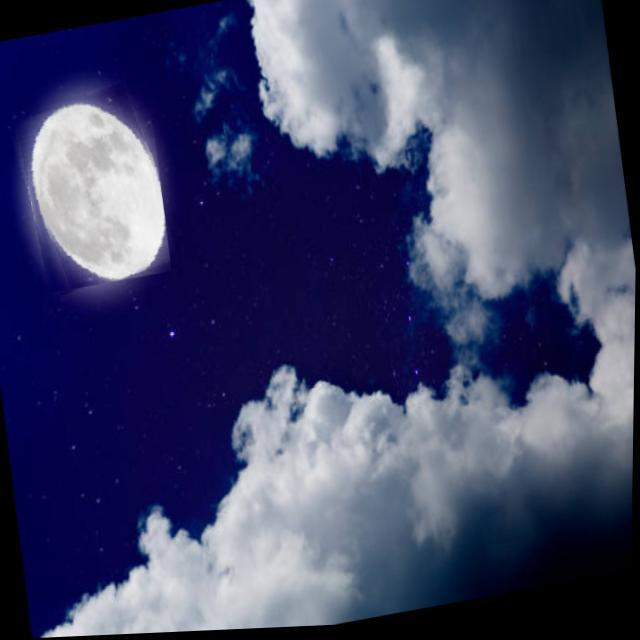moon: (11, 81, 175, 297)
